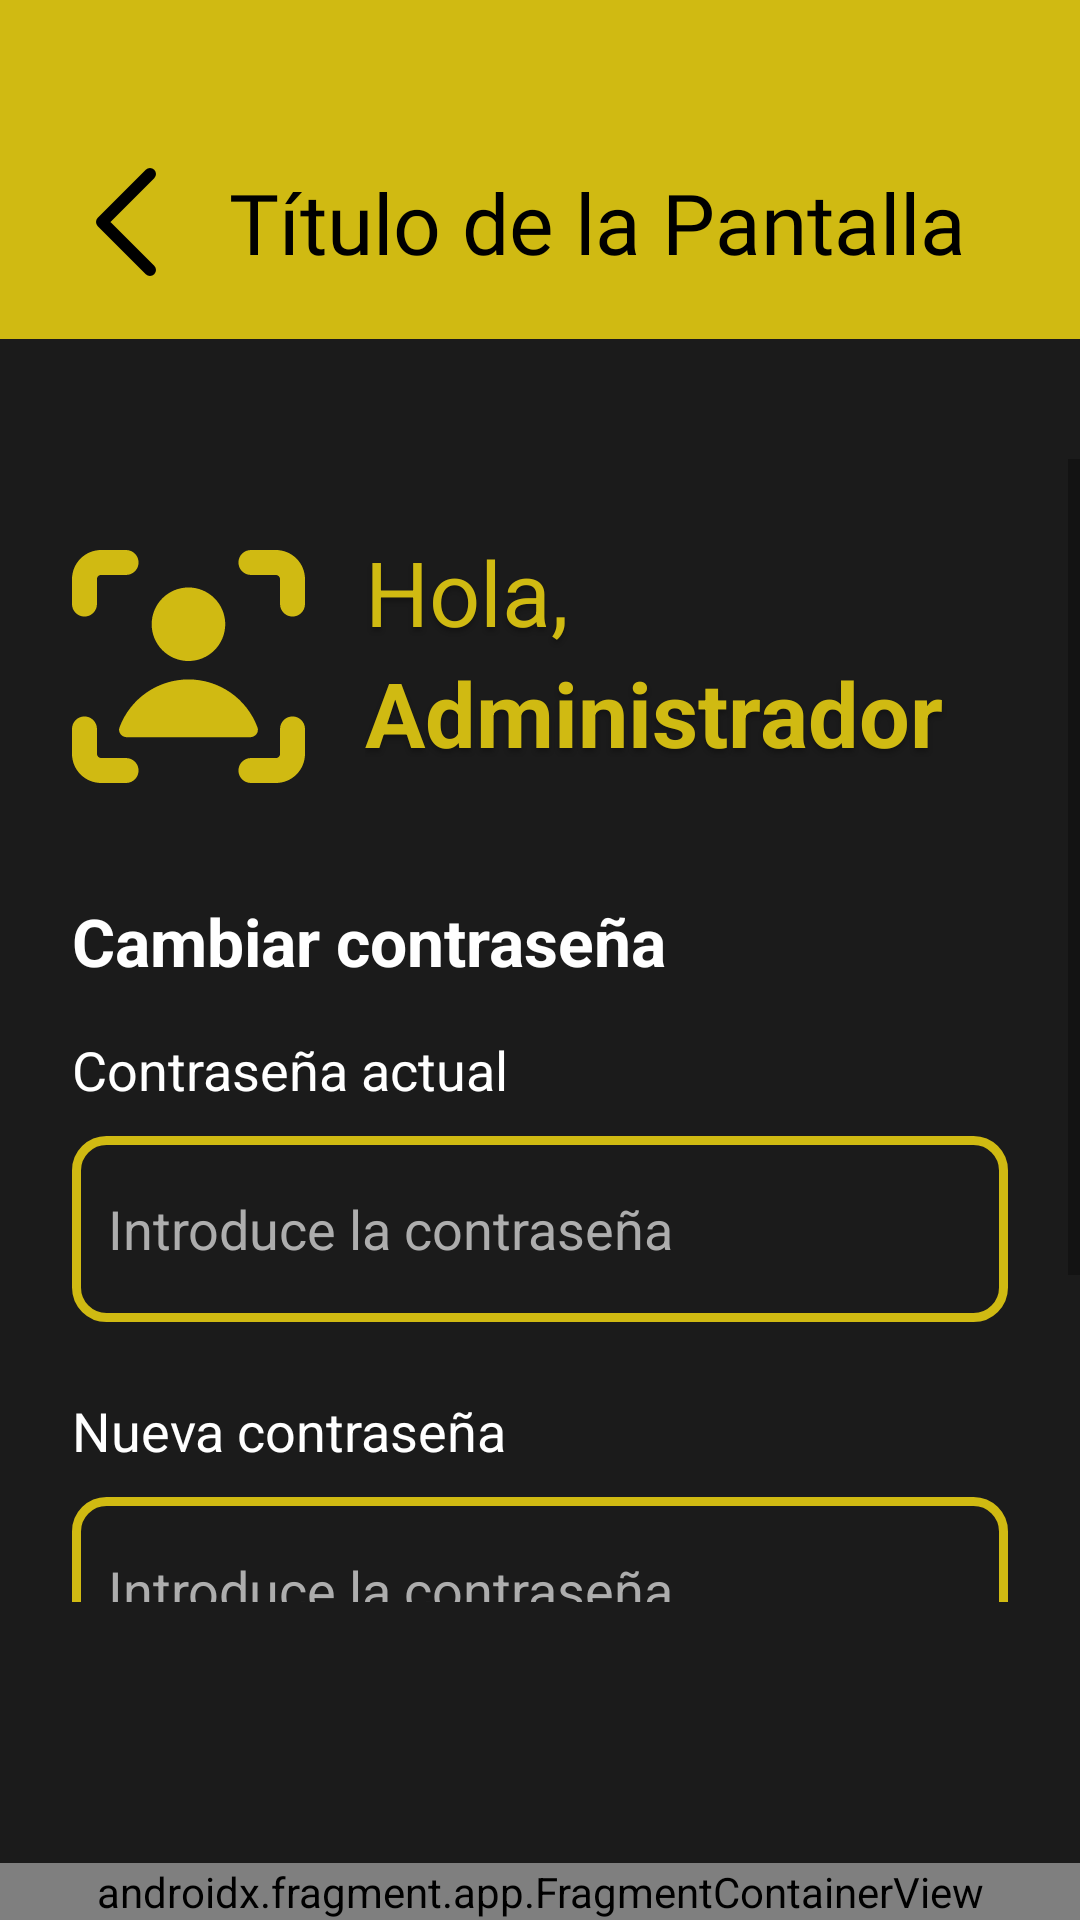

Named icons in this screenshot (1080w x 1920h) and their bounding boxes, (x1, y1, x2, y2):
atras: (96, 168, 156, 276)
